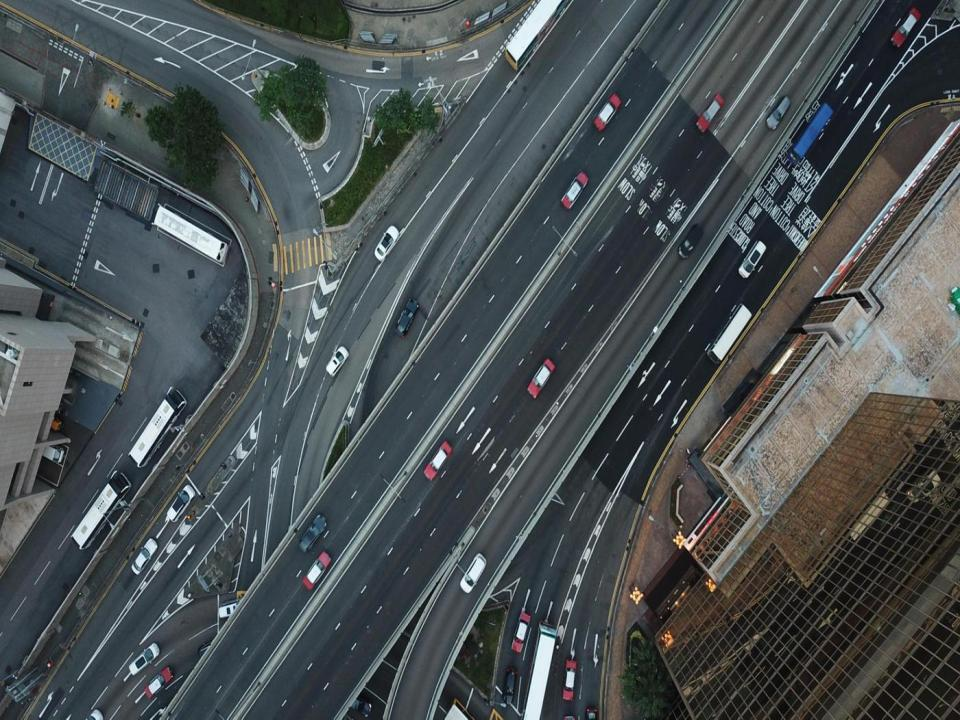bus: (70, 470, 132, 549), (128, 386, 187, 468), (152, 203, 226, 262), (504, 0, 567, 69), (520, 620, 555, 719), (787, 103, 833, 163), (706, 302, 750, 362)
car: (302, 548, 331, 590), (890, 7, 920, 47), (424, 440, 452, 480), (560, 171, 588, 211), (738, 240, 766, 280), (298, 514, 326, 553), (167, 484, 194, 524), (696, 92, 723, 132), (527, 358, 554, 398), (593, 92, 620, 131), (460, 552, 486, 592), (130, 537, 158, 574), (144, 664, 173, 699), (373, 224, 399, 262), (129, 642, 159, 674), (395, 297, 418, 338), (677, 224, 703, 260), (765, 95, 790, 131), (510, 612, 530, 652), (562, 659, 578, 701), (326, 346, 348, 376), (217, 600, 247, 622), (198, 638, 224, 660), (502, 666, 516, 705), (346, 696, 370, 715)
